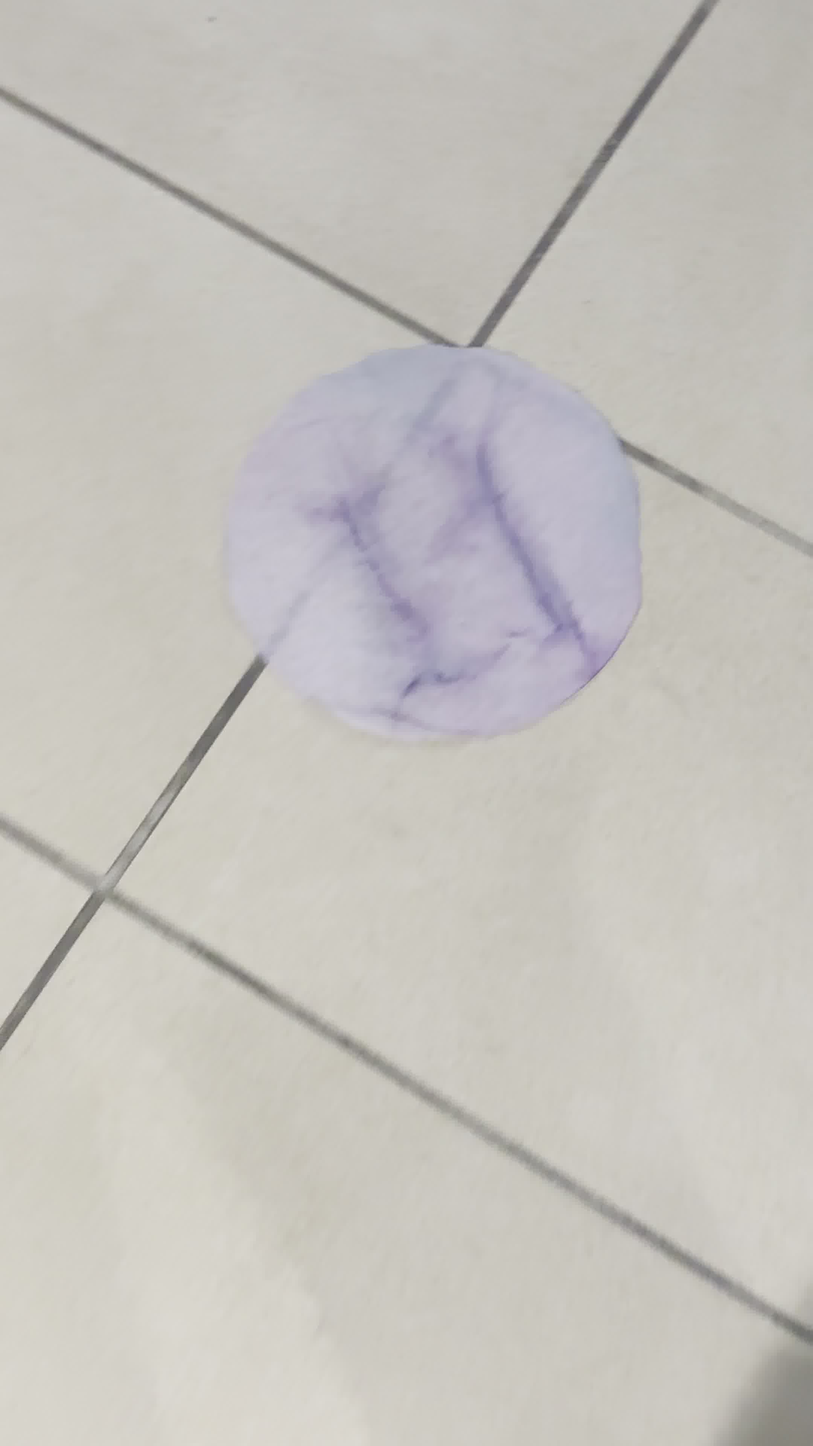Target: (223, 344, 642, 745)
